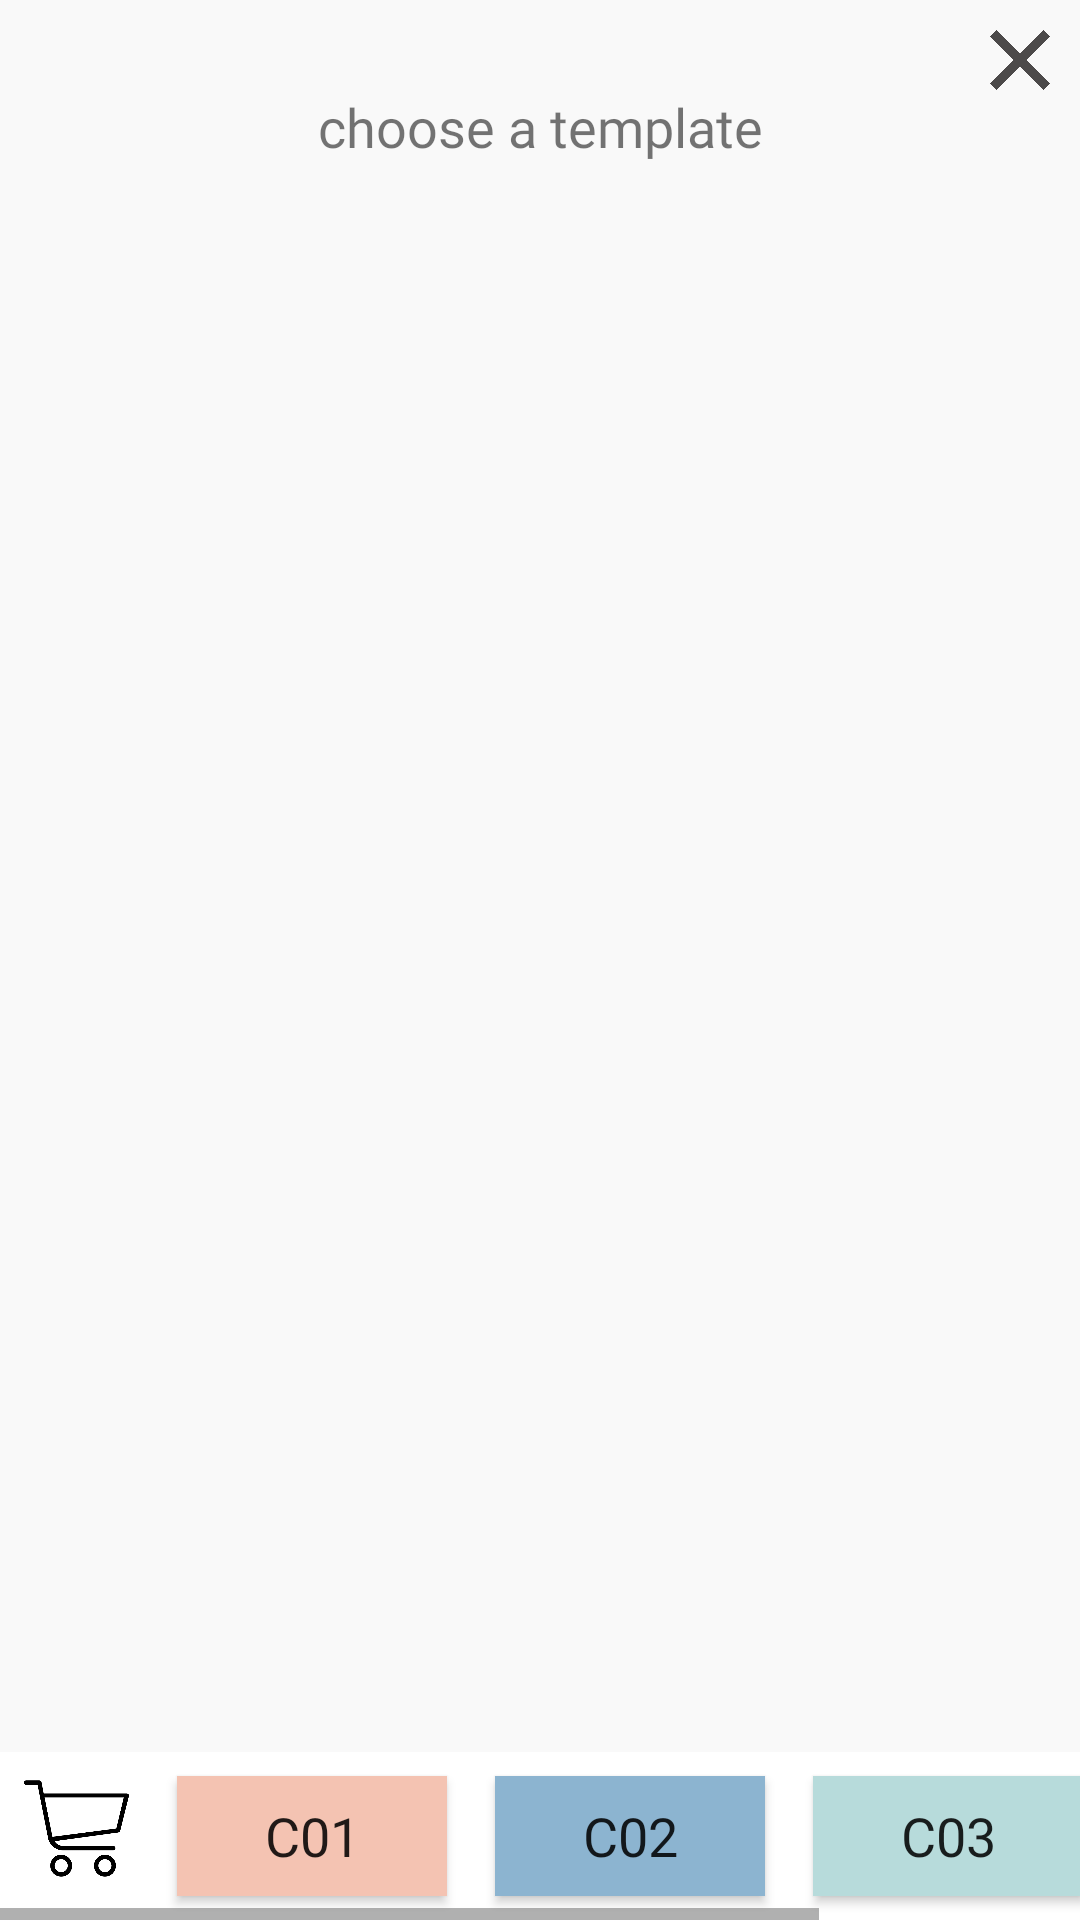

Icons on this 1080 × 1920 Android screen, each with the point to tap as point (x, y):
shopping cart: point (76, 1828)
